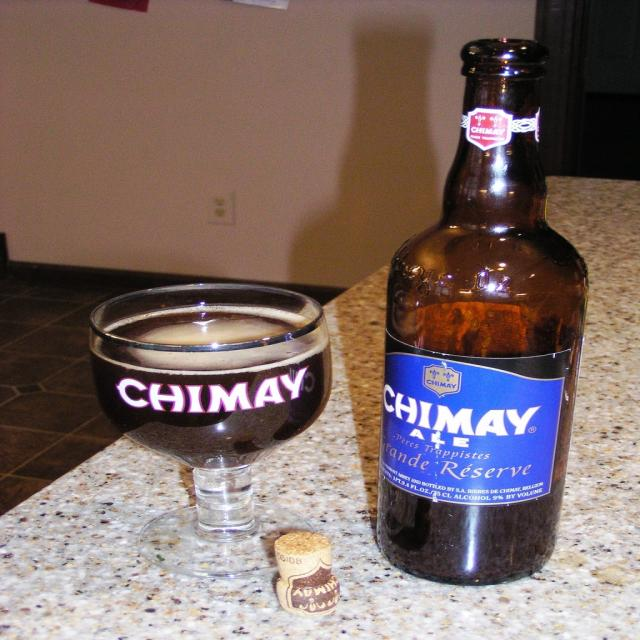chimay: (380, 353, 567, 508), (116, 367, 316, 416)
